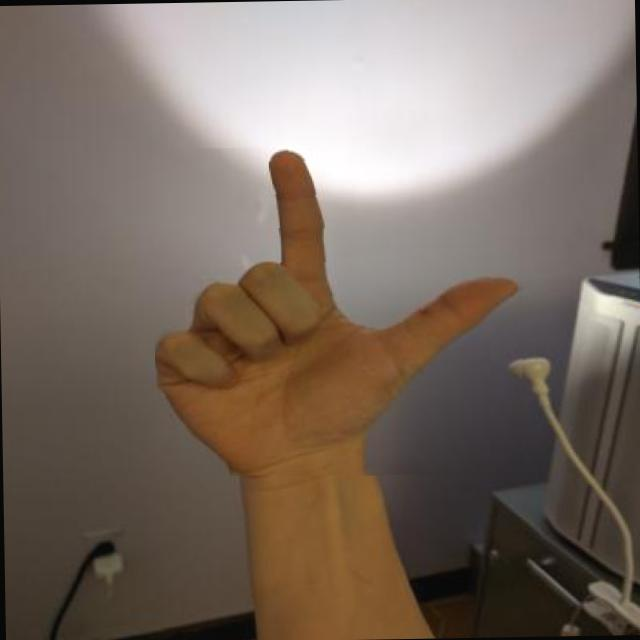L: (151, 142, 531, 480)
